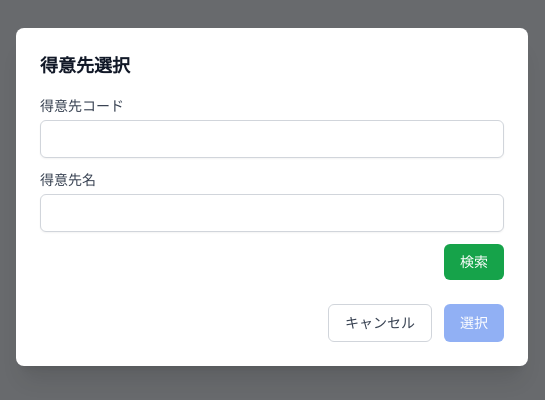
Test: CustomerSelectDialog › バリデーション › 得意先コードに半角数字以外を入力して検索するとエラー
Step 1. Type "abc" into the field labelled "得意先コード" → (272, 139), box [40,120,504,158]
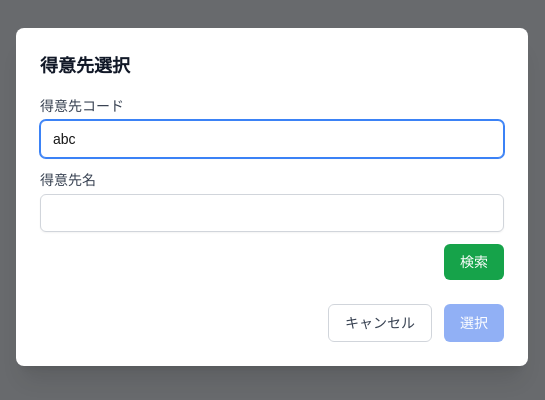
検索ボタンをクリックしてバリデーションを発動
Step 2. Click the button "検索" → (474, 262), box [444,244,504,280]
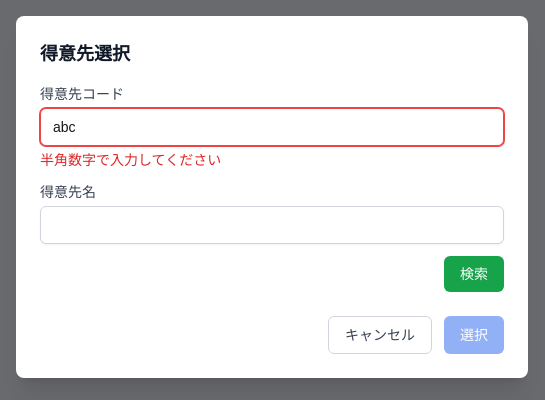
Expected: the text "半角数字で入力してください" is shown, [40,152,221,168]
